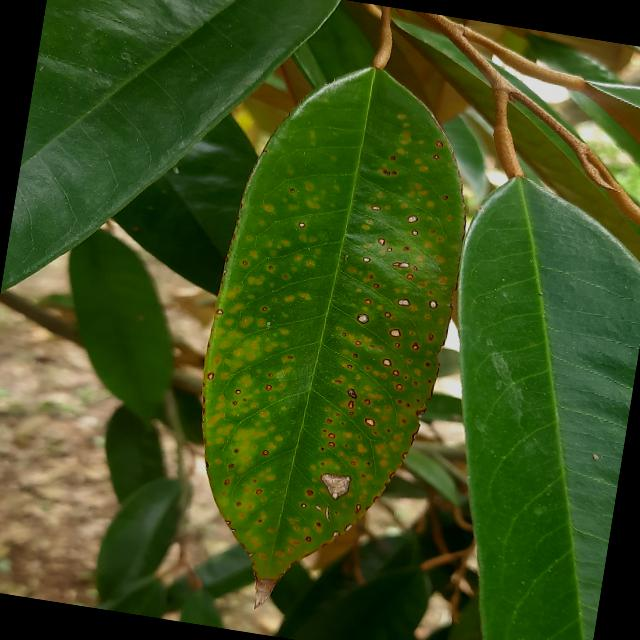Leaf Spot: (160, 24, 500, 639)
